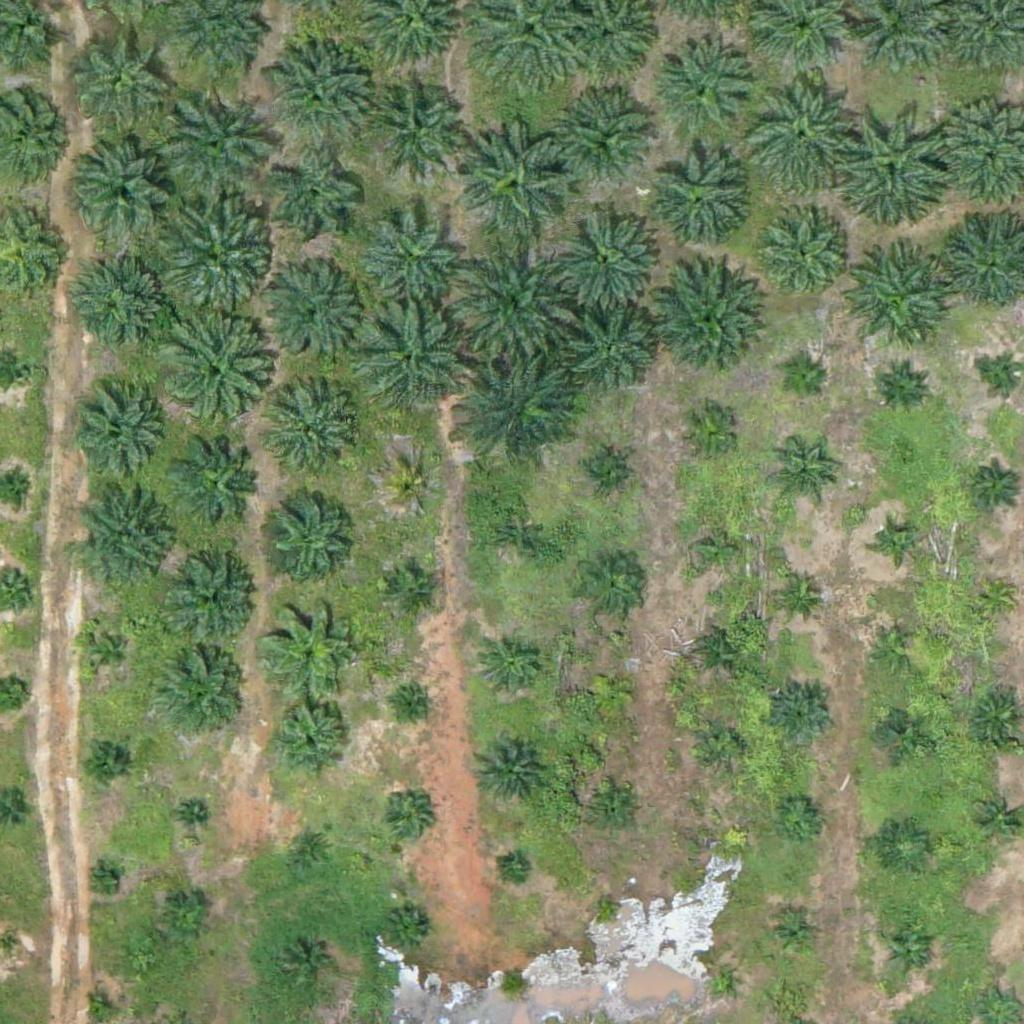Kelapa_Sawit: (832, 105, 957, 231), (740, 71, 865, 197), (450, 236, 575, 362), (458, 347, 583, 473), (151, 194, 276, 319), (151, 313, 276, 438), (649, 267, 762, 381), (358, 305, 471, 418), (263, 40, 376, 153), (157, 89, 270, 202), (550, 197, 662, 311), (460, 117, 572, 231), (838, 249, 950, 362), (753, 204, 853, 305), (654, 40, 754, 141), (362, 206, 462, 307), (266, 152, 366, 253), (261, 261, 361, 362), (64, 22, 164, 123), (75, 139, 175, 240), (72, 258, 172, 359), (69, 386, 169, 487), (259, 596, 359, 697), (77, 488, 177, 589), (646, 149, 746, 249), (559, 88, 659, 188), (368, 76, 468, 176), (272, 390, 360, 479), (266, 697, 354, 785), (568, 308, 656, 396), (157, 646, 245, 734), (169, 554, 257, 642), (176, 441, 264, 529), (266, 486, 353, 574), (472, 733, 547, 809), (770, 447, 833, 510), (676, 401, 739, 464), (772, 683, 835, 746), (687, 518, 750, 581), (580, 556, 642, 619), (480, 635, 542, 698), (484, 505, 546, 568), (879, 822, 929, 873), (877, 704, 927, 755), (697, 626, 747, 677), (773, 569, 823, 620), (698, 720, 748, 771), (577, 447, 627, 498), (586, 666, 636, 717), (774, 793, 824, 844), (972, 793, 1022, 844), (884, 925, 934, 976), (387, 564, 437, 614), (877, 362, 927, 412), (971, 460, 1021, 510), (870, 624, 920, 674), (778, 357, 828, 407), (592, 787, 642, 837), (769, 910, 819, 960), (381, 793, 431, 843), (384, 907, 434, 957), (281, 939, 331, 989), (288, 825, 338, 875), (161, 895, 211, 945), (80, 735, 130, 785), (388, 464, 438, 514), (83, 626, 133, 676), (976, 578, 1014, 616), (879, 523, 917, 561), (985, 358, 1022, 396), (501, 856, 526, 882), (706, 967, 731, 992), (594, 894, 619, 919), (92, 866, 117, 891), (85, 996, 110, 1021), (402, 692, 427, 717), (180, 802, 204, 827)
